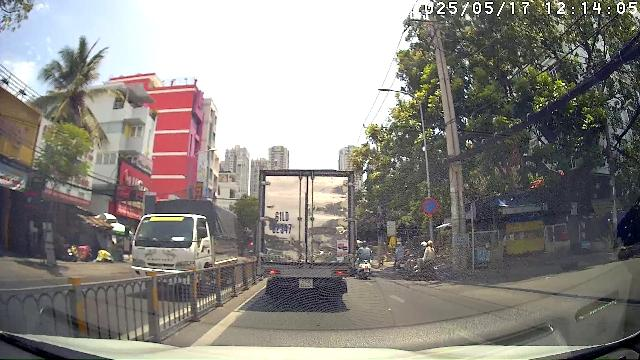131a-cam-do-xe: (422, 198, 438, 214)
